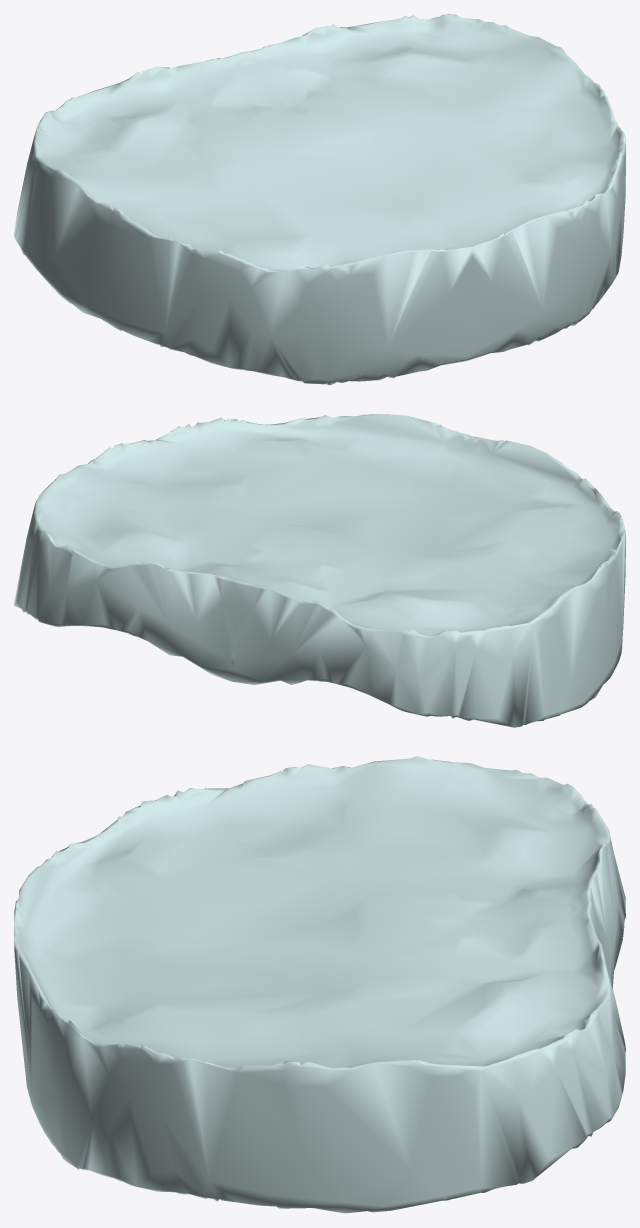
The model's file is Intervertebral_disc_L3-L4_Generated_Mesh_From_X3D.089.glb.
3 views of the same model, one above another, from view 1: azimuth 30°, elevation 25°; view 2: azimuth 150°, elevation 25°; view 3: azimuth 270°, elevation 25° (orthographic). The views are drawn at different scales.
Visible parts, largest first — view 1: Intervertebral_disc_L3-L4_Generated_Mesh_From_X3D.089; view 2: Intervertebral_disc_L3-L4_Generated_Mesh_From_X3D.089; view 3: Intervertebral_disc_L3-L4_Generated_Mesh_From_X3D.089.
Part boxes in pixels (x1,y1,x2,y2): Intervertebral_disc_L3-L4_Generated_Mesh_From_X3D.089: [14, 14, 625, 385]; Intervertebral_disc_L3-L4_Generated_Mesh_From_X3D.089: [14, 414, 625, 727]; Intervertebral_disc_L3-L4_Generated_Mesh_From_X3D.089: [14, 756, 625, 1213].
Size of the model in its own units: 0.0461 by 0.0128 by 0.0376.
